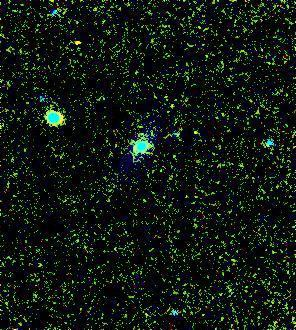star: (60, 27, 90, 57)
